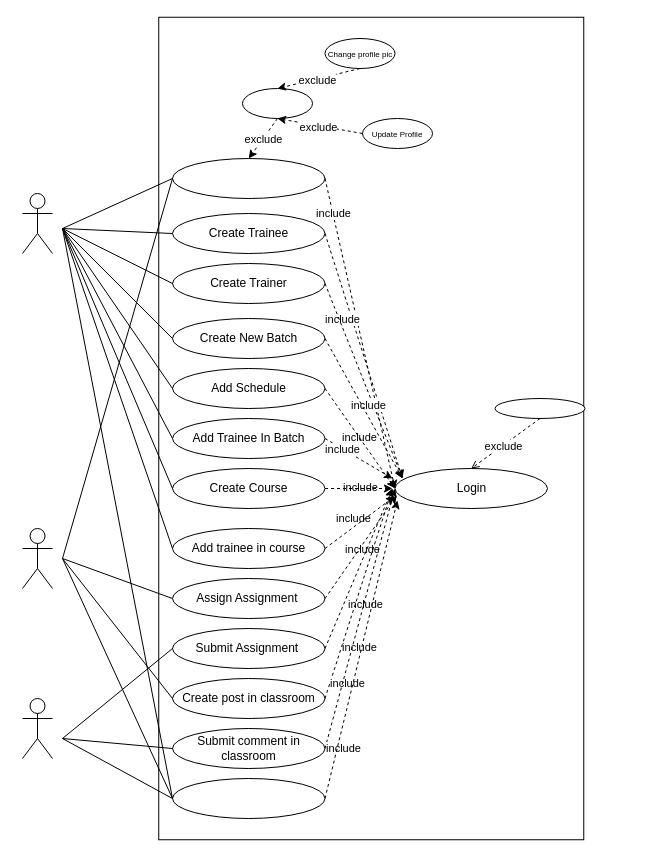
Some shapes in this 665 by 858 pixel diagram are drawn without their labels. Each missing label, with the box of its shape:
Admin: (22, 192, 52, 254)
Check Role: (494, 398, 585, 418)
Edit Profile: (242, 88, 312, 118)
Send text in group chat: (172, 778, 325, 818)
Trainee: (22, 698, 52, 758)
Trainer: (22, 528, 52, 588)
View Profile: (172, 158, 325, 198)
